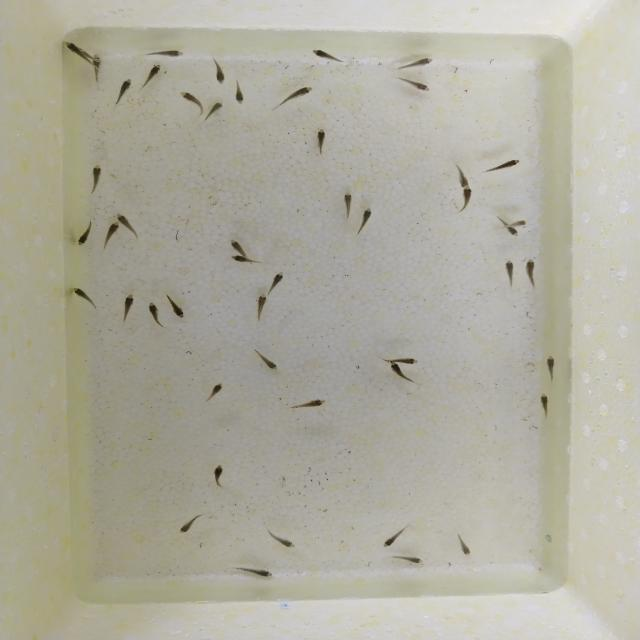fingerling: (172, 514, 203, 540), (144, 300, 168, 332), (278, 85, 318, 104), (265, 530, 302, 550), (306, 47, 347, 65), (229, 565, 274, 580), (179, 89, 203, 116), (486, 159, 524, 176), (398, 56, 436, 72), (142, 49, 192, 61), (372, 530, 402, 550), (115, 76, 133, 108), (71, 285, 96, 308), (61, 39, 85, 62), (75, 220, 94, 249), (447, 163, 472, 185), (253, 294, 269, 328), (116, 291, 134, 321), (292, 397, 328, 412), (209, 59, 230, 84), (210, 462, 228, 491), (89, 54, 106, 84), (167, 290, 184, 320), (542, 351, 559, 381), (452, 535, 473, 558), (397, 79, 434, 92), (144, 64, 164, 88), (89, 164, 104, 196), (256, 350, 280, 370), (222, 256, 268, 266), (385, 362, 405, 385), (315, 124, 329, 156), (524, 260, 540, 288), (269, 269, 289, 290), (537, 391, 552, 418), (118, 212, 138, 232), (207, 380, 225, 402), (458, 188, 474, 212), (504, 258, 516, 290), (208, 102, 227, 122), (386, 355, 420, 366), (232, 78, 246, 104), (357, 206, 370, 233), (228, 238, 248, 255), (393, 554, 425, 564), (105, 218, 118, 242), (342, 190, 352, 219), (505, 228, 522, 239), (510, 221, 536, 225)
